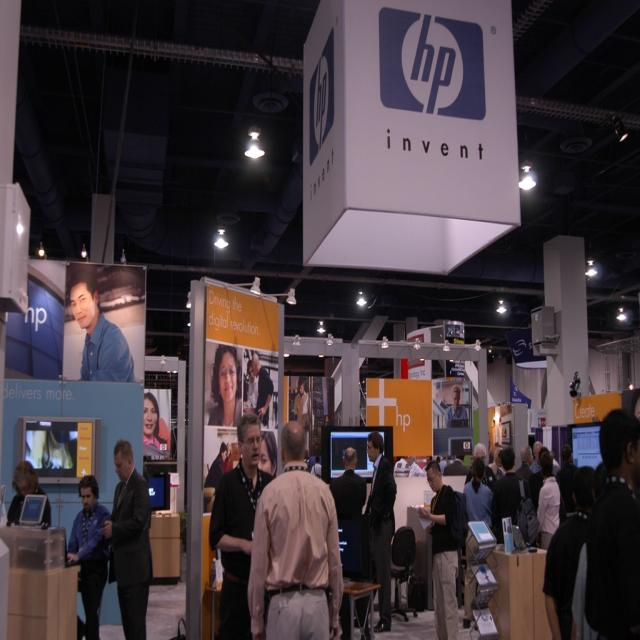HP: (379, 7, 489, 125), (308, 30, 340, 164)
